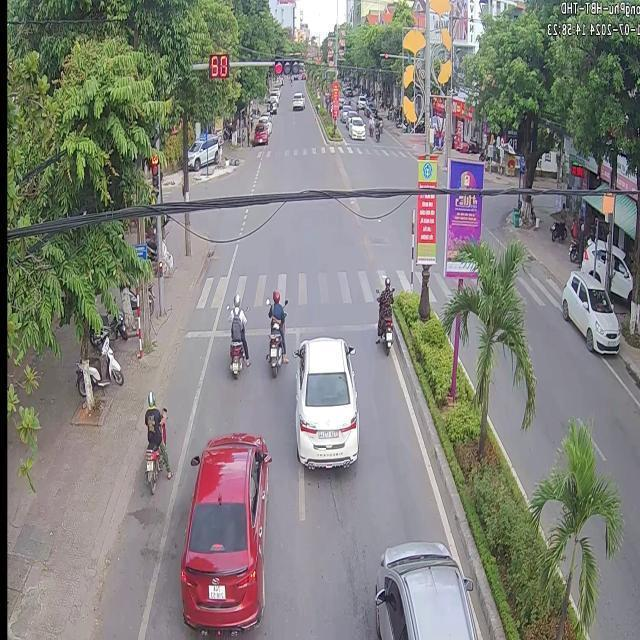car: (177, 438, 268, 636), (373, 540, 476, 638), (292, 336, 357, 467)
motobike: (144, 389, 171, 500), (225, 290, 246, 385), (268, 285, 287, 378), (374, 277, 393, 359)
red_light: (270, 51, 301, 76), (148, 154, 158, 187)
stop_line: (182, 321, 383, 336)
